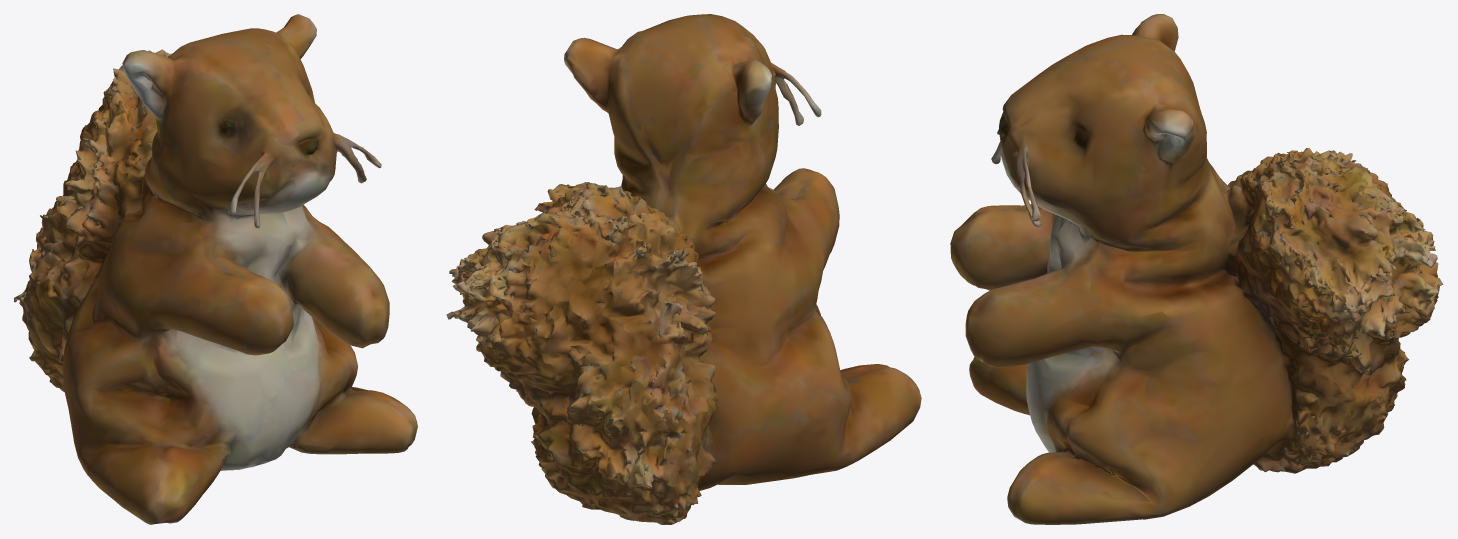
File: Squirrel-high.glb
3 renders of one model, left to right at view 1: azimuth 30°, elevation 25°; view 2: azimuth 150°, elevation 25°; view 3: azimuth 270°, elevation 25°, orthographic. The views are drawn at different scales.
Parts seen in each view (by area): view 1: Squirrel; view 2: Squirrel; view 3: Squirrel.
Part boxes in pixels (<box>): Squirrel: <box>14,14,417,524</box>; Squirrel: <box>446,14,921,524</box>; Squirrel: <box>950,14,1443,524</box>.
Bounding box in the file's own units: 0.0998 × 0.1317 × 0.1411.
1 material, 1 textured.
